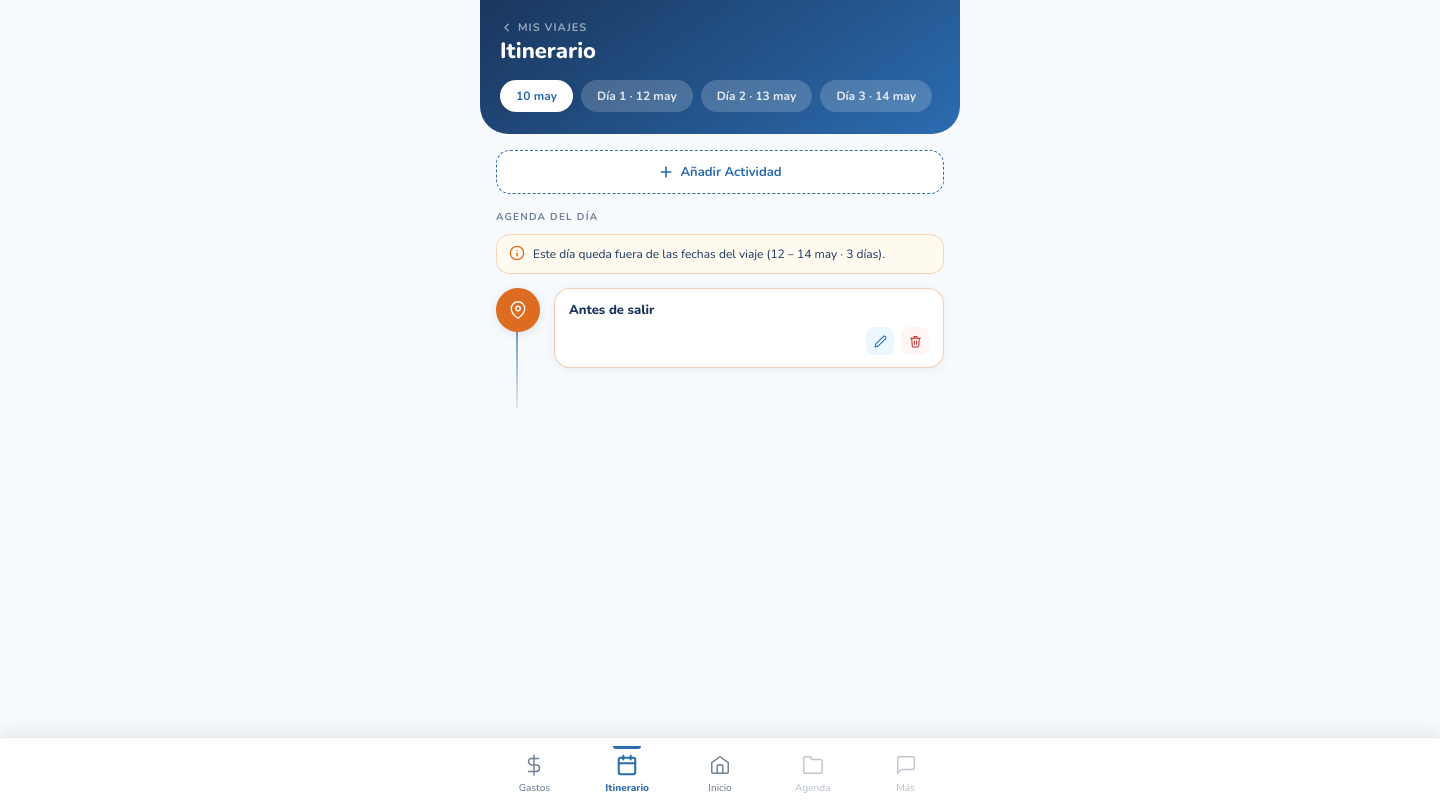
Scenario: Itinerario › avisa en un día que queda fuera de las fechas del viaje
Click the button "10 may" at x=536, y=96, box x1=500 y1=80 x2=573 y2=112
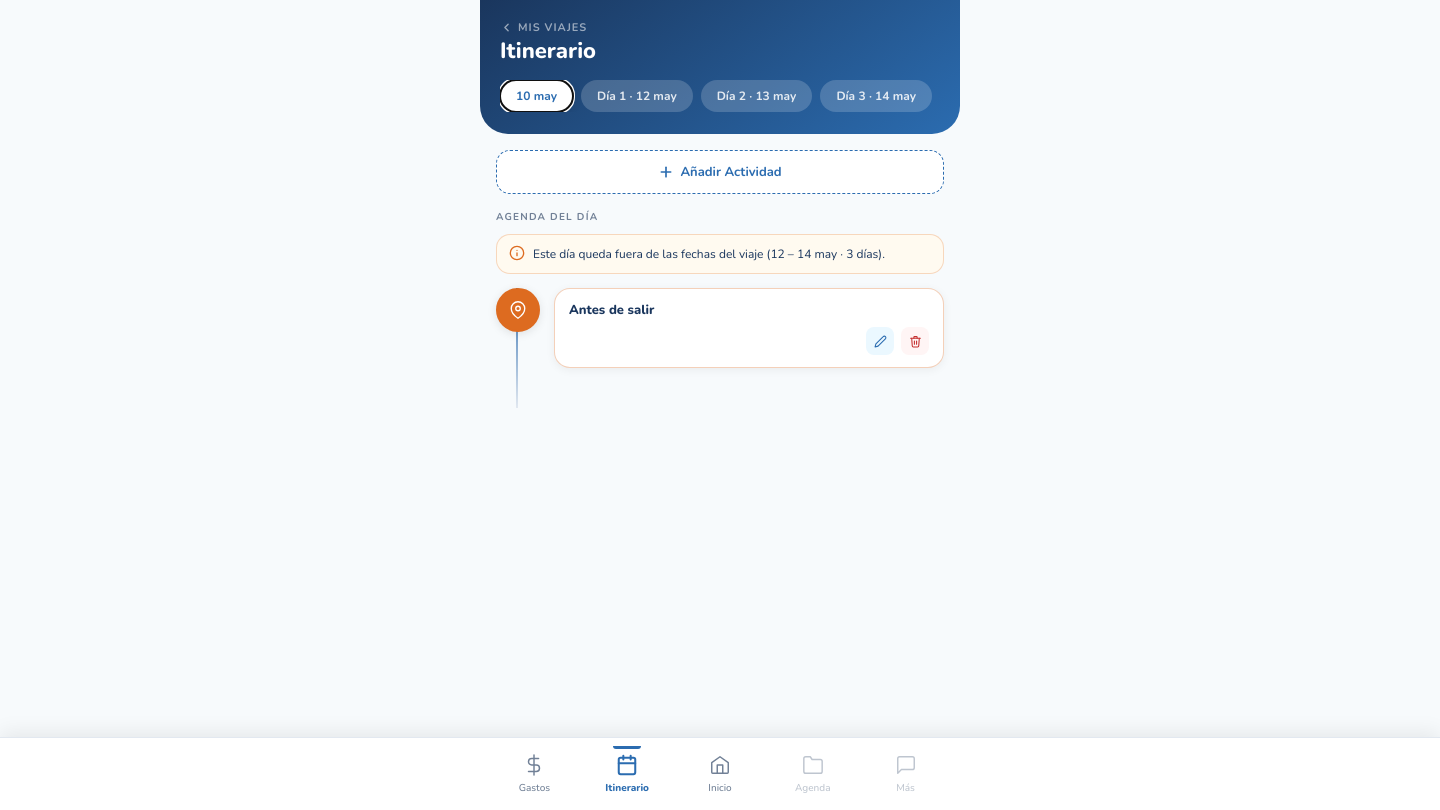
Expected: the message shows "Este día queda fuera de las fechas del viaje", x1=533 y1=246 x2=770 y2=262
Click the button "Día 1 · 12 may" at x=637, y=96, box x1=581 y1=80 x2=693 y2=112
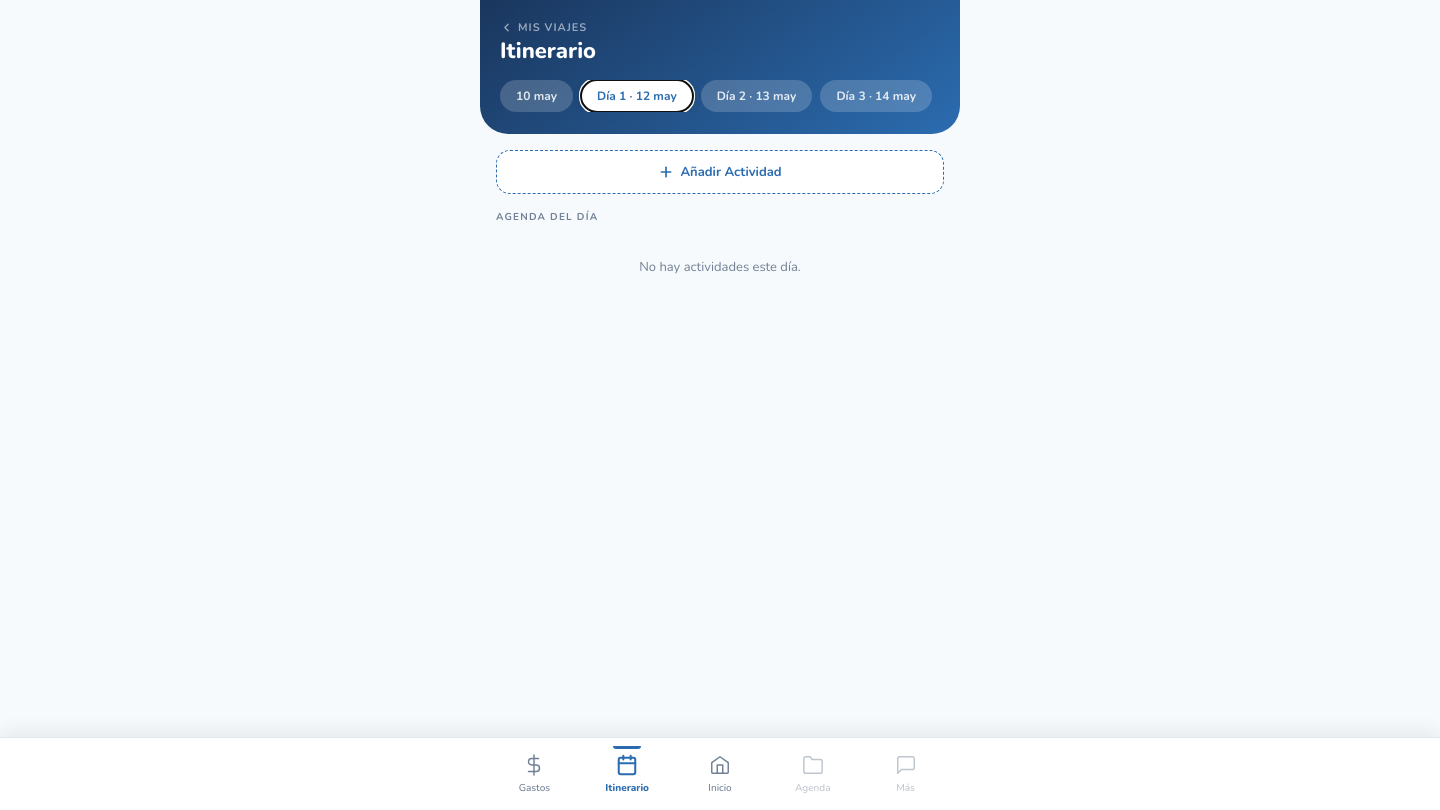
Expected: the message "Este día queda fuera de las fechas del viaje (12 – 14 may · 3 días)." is gone
